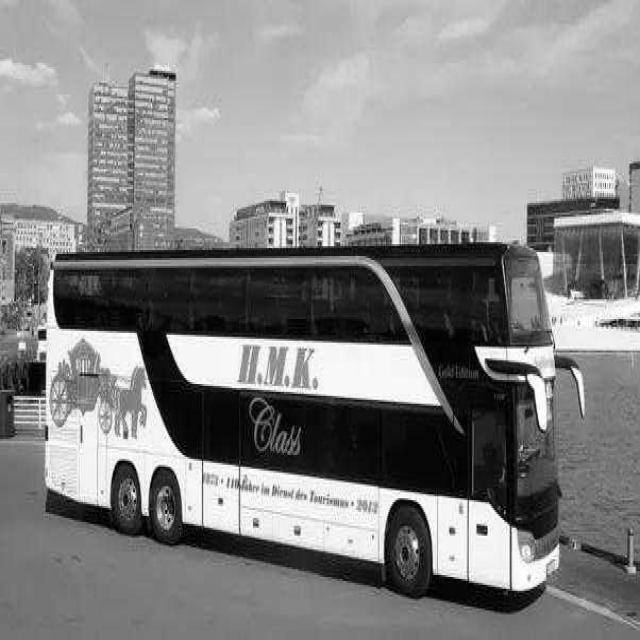Bus: (45, 233, 565, 594)
